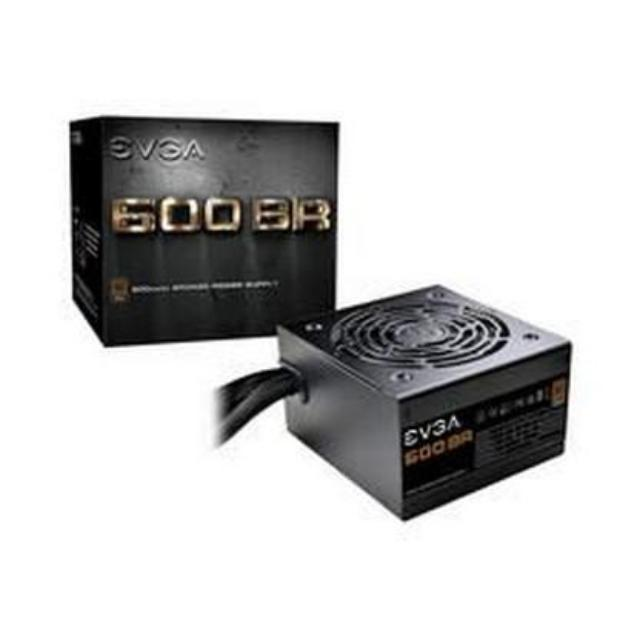PSU: (274, 275, 572, 523)
